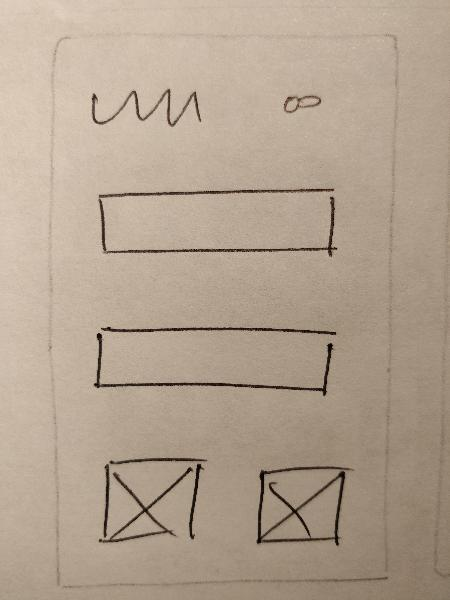image: (96, 448, 210, 554), (245, 460, 357, 555)
switch: (268, 81, 332, 126)
text: (81, 79, 209, 135)
text_input: (80, 179, 348, 270), (82, 319, 341, 402)
